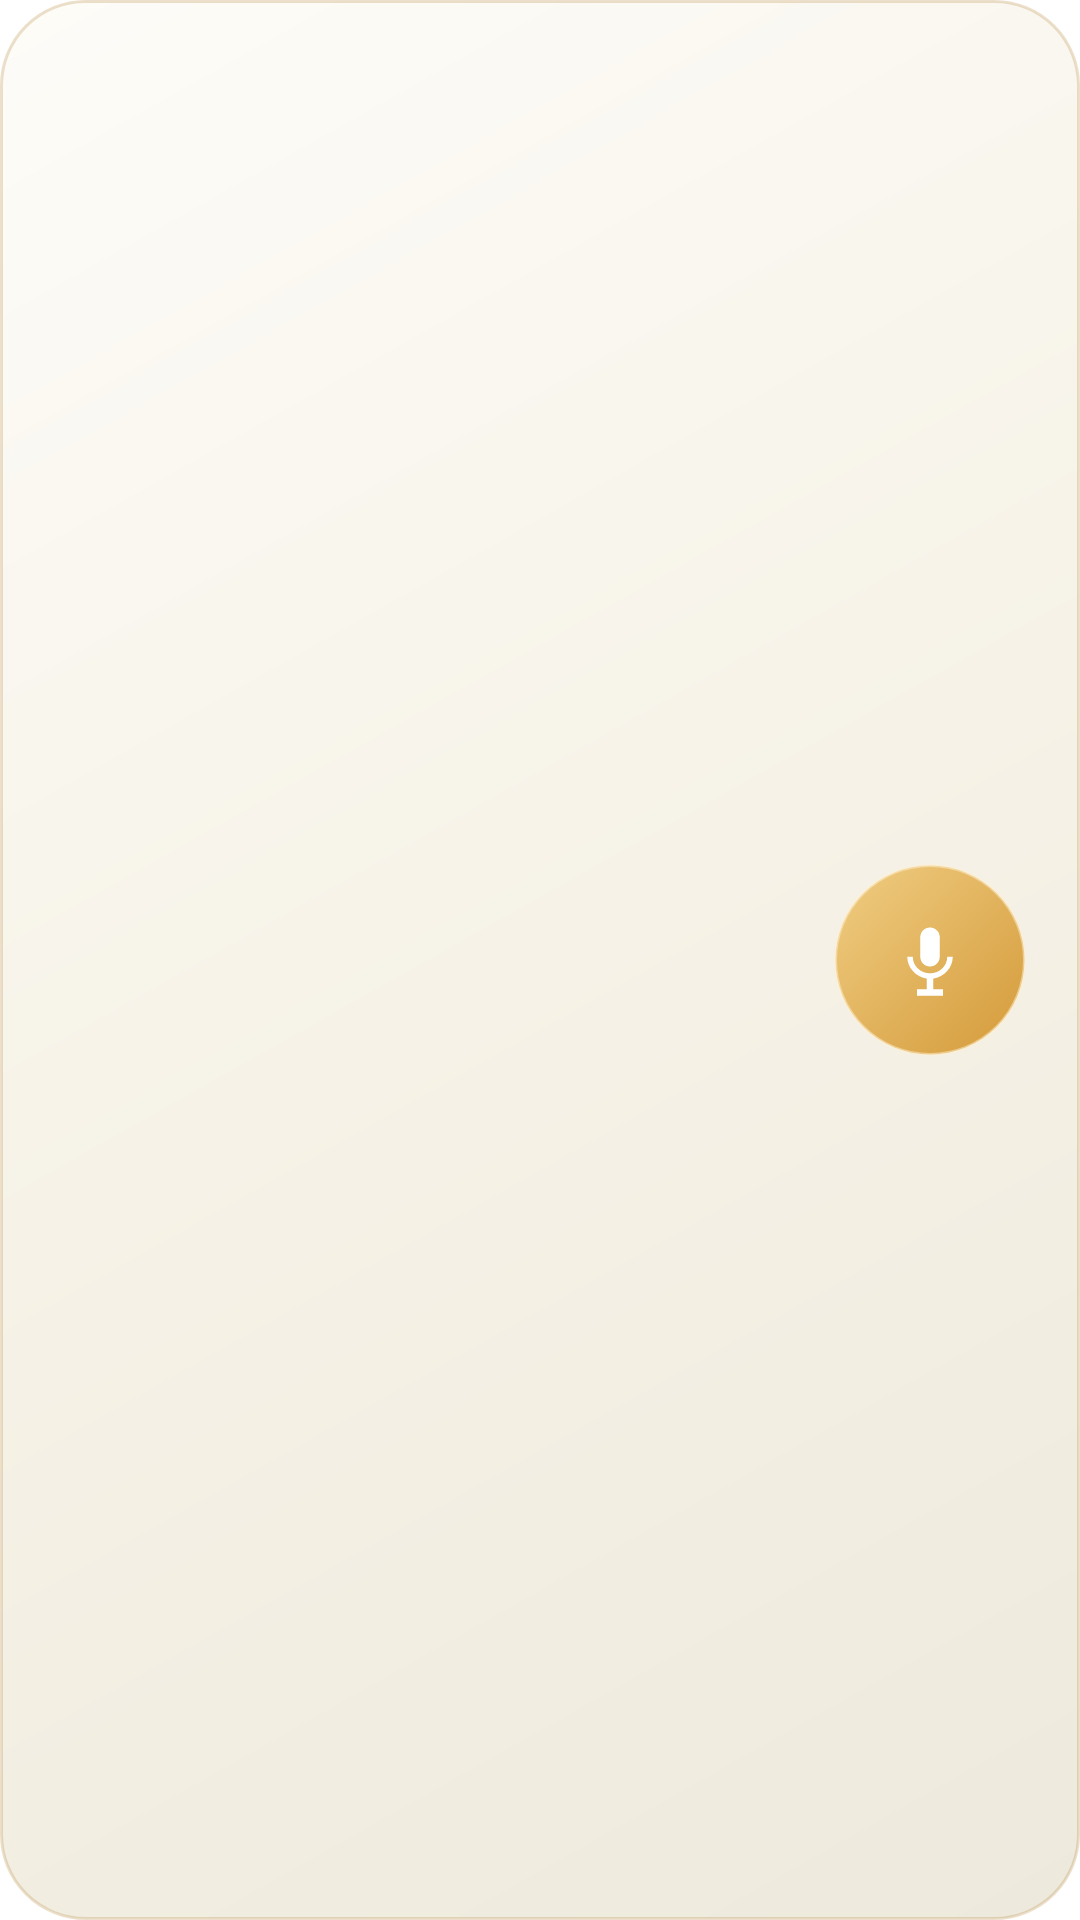

Screen size 1080w x 1920h. Icon name, then its box in pixels as (x1, y1, x2, y2):
Start phone recording: (835, 865, 1025, 1055)
